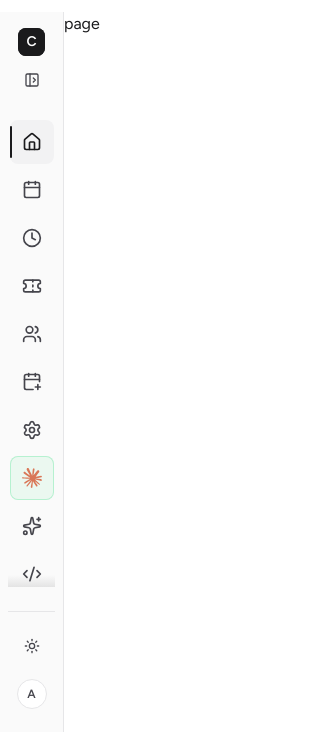
Test: AdminShell: the API and webhooks group › closes the flyout on Tab and puts focus back on the group, so Tab moves on from there
Step 1. Click the button with test id "nav-api" → click(32, 574), box x1=10 y1=552 x2=54 y2=596
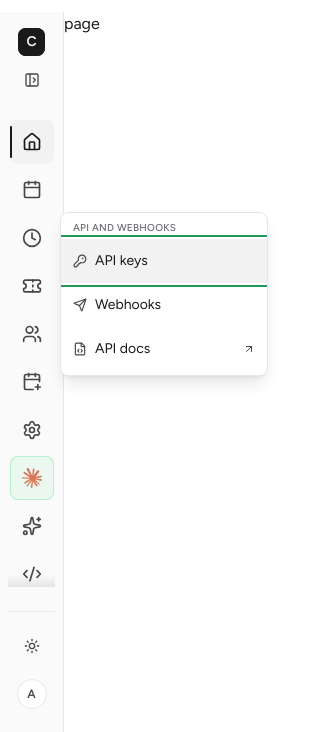
Check: the menu with test id "nav-api-flyout" is shown, box x1=60 y1=212 x2=268 y2=376
Step 2. Press Tab in the menu item "API keys", box x1=61 y1=239 x2=267 y2=283
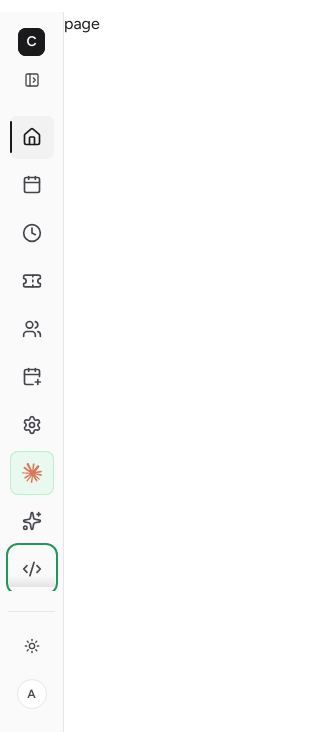
Check: the menu with test id "nav-api-flyout" is gone
